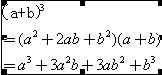cube: (149, 54, 156, 65), (25, 55, 33, 63), (39, 2, 44, 12)
square: (118, 56, 125, 64), (104, 29, 110, 38), (31, 30, 38, 37), (65, 55, 70, 64)
